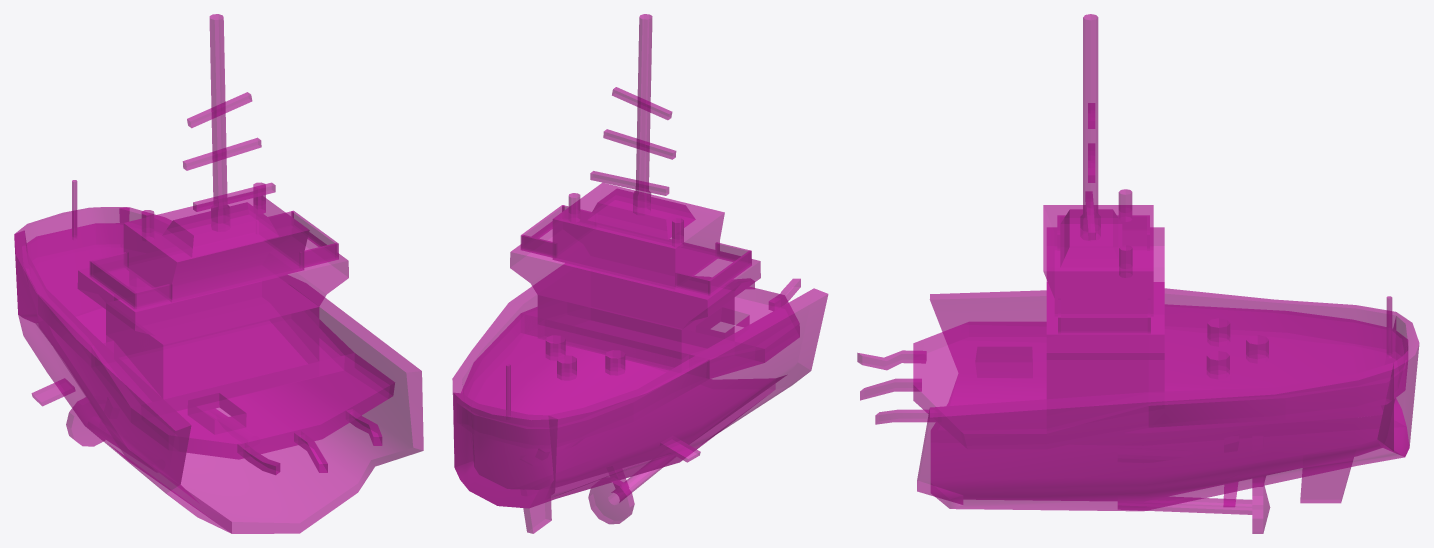
The model's file is SM_Prop_Ship_Wrecked_Back_01_Collision.fbx.
The picture shows the model from 3 angles, left to right: view 1: azimuth 30°, elevation 25°; view 2: azimuth 150°, elevation 25°; view 3: azimuth 270°, elevation 25°; orthographic projection. The views are drawn at different scales.
Parts seen in each view (by area): view 1: SM_Prop_Ship_Wrecked_Back_01_Collision; view 2: SM_Prop_Ship_Wrecked_Back_01_Collision; view 3: SM_Prop_Ship_Wrecked_Back_01_Collision.
Boxes of the visible parts, x1=… form: SM_Prop_Ship_Wrecked_Back_01_Collision: x1=14, y1=14, x2=423, y2=533; SM_Prop_Ship_Wrecked_Back_01_Collision: x1=452, y1=14, x2=828, y2=533; SM_Prop_Ship_Wrecked_Back_01_Collision: x1=857, y1=14, x2=1419, y2=533.
Bounding box in the file's own units: 1903 × 3516 × 3659.
